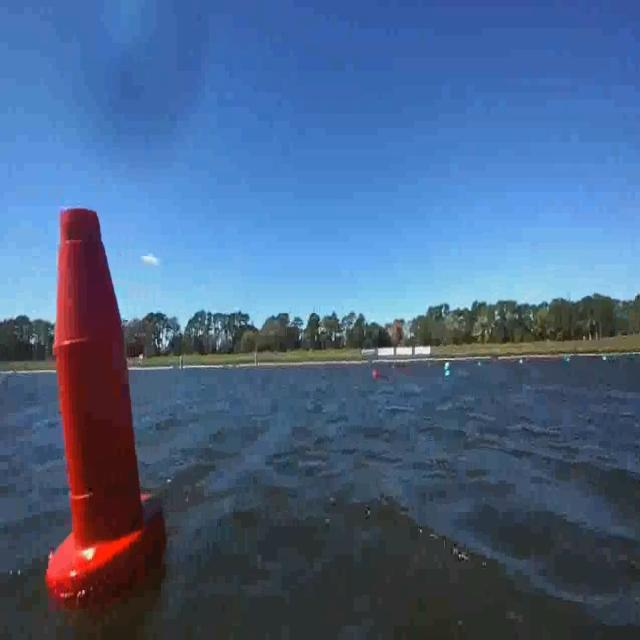red-buoy: (373, 365, 381, 384)
red-column-buoy: (44, 204, 162, 598)
